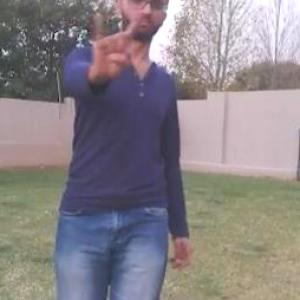takeoff-hand: (84, 3, 150, 88)
